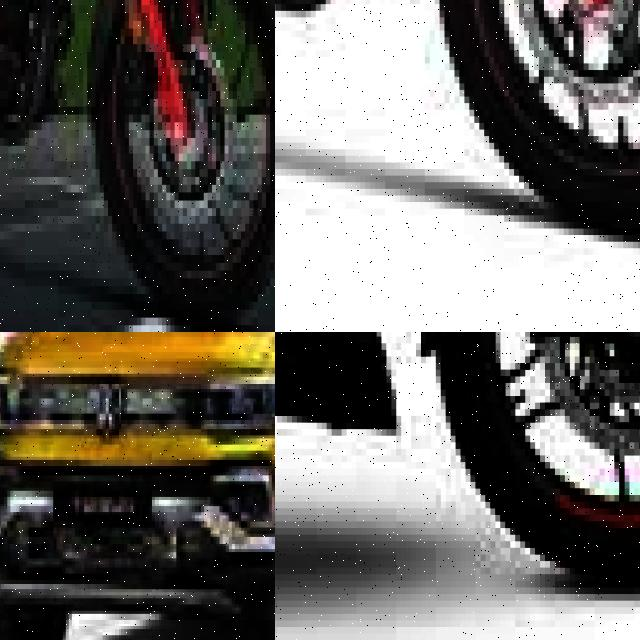bike: (275, 332, 640, 607), (0, 0, 275, 325), (275, 0, 640, 235)
car: (0, 332, 275, 640)
